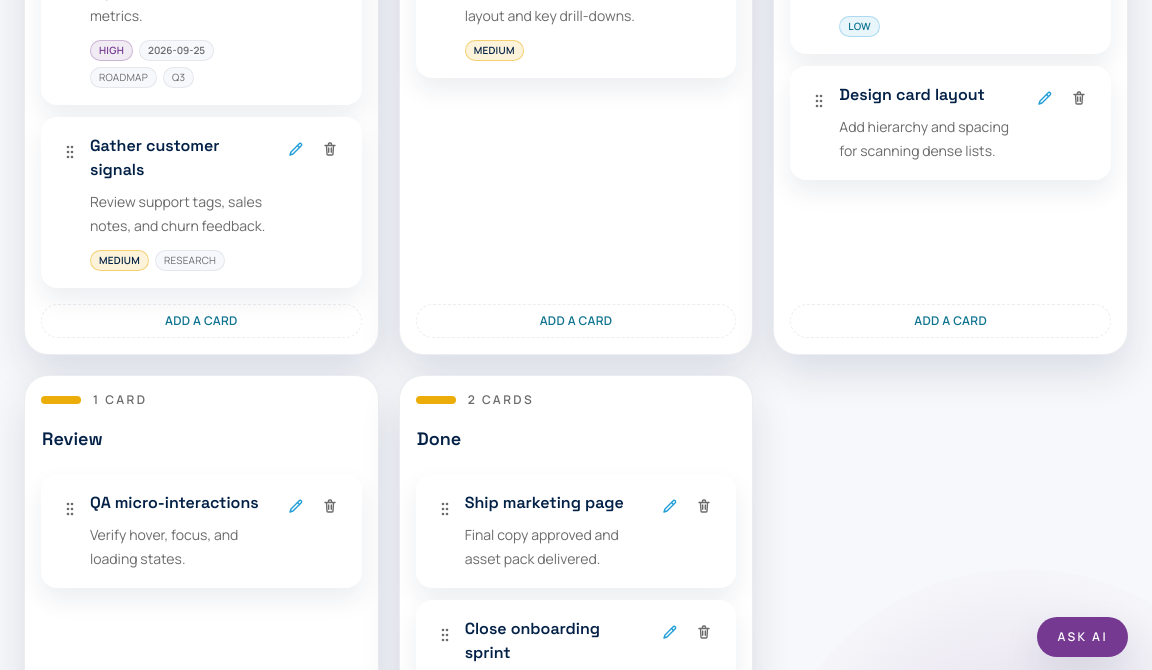
Scenario: KanbanBoard › updates the card count when a card is added
(page scrolled)
Click the button "Add a card" below "research" at [201, 321], box x1=41 y1=304 x2=362 y2=338
(page scrolled)
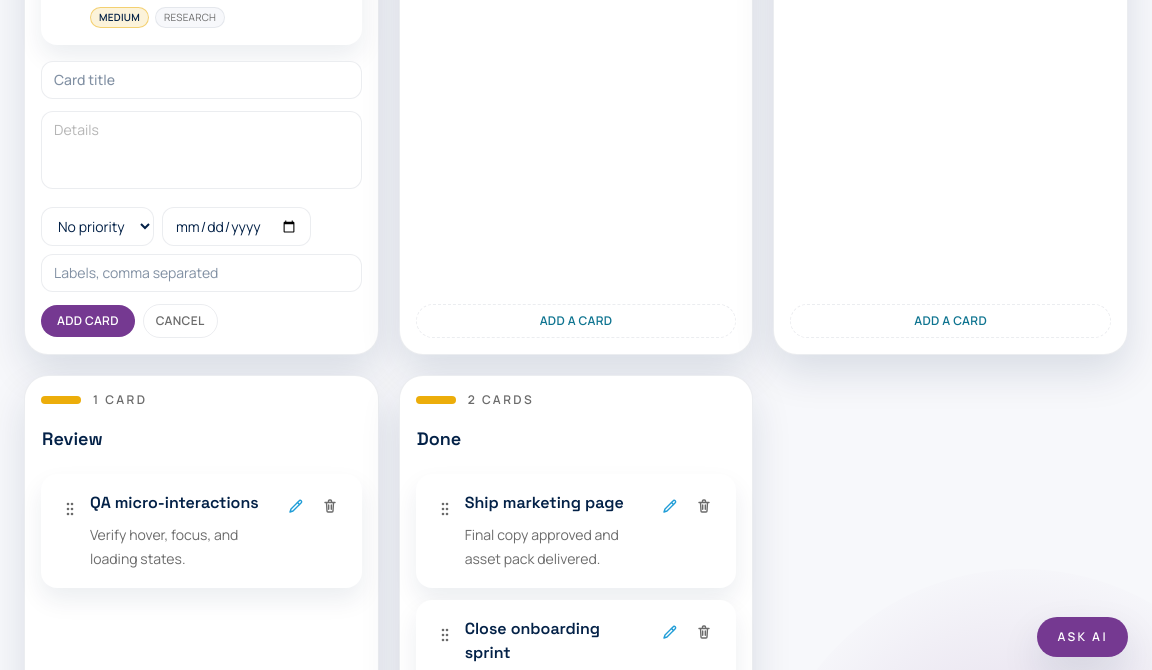
Type "Counted" into the field with placeholder "Card title" at [201, 80], box x1=41 y1=61 x2=362 y2=99
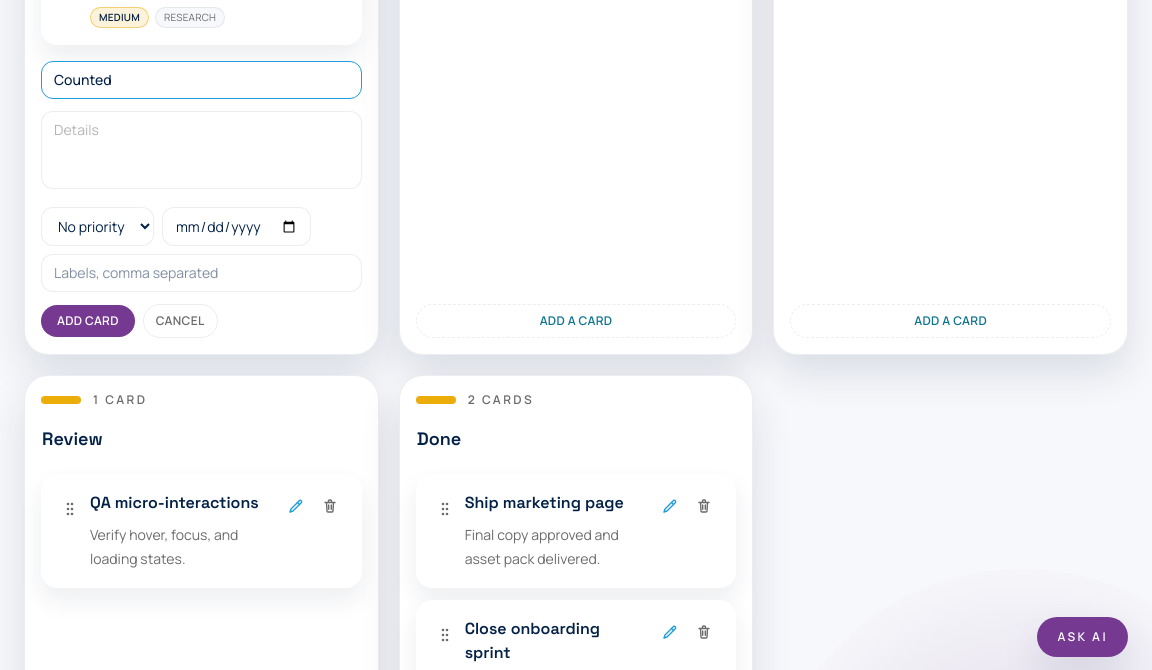
Click the button "Add card" at [88, 321], box x1=41 y1=305 x2=135 y2=337
(page scrolled)
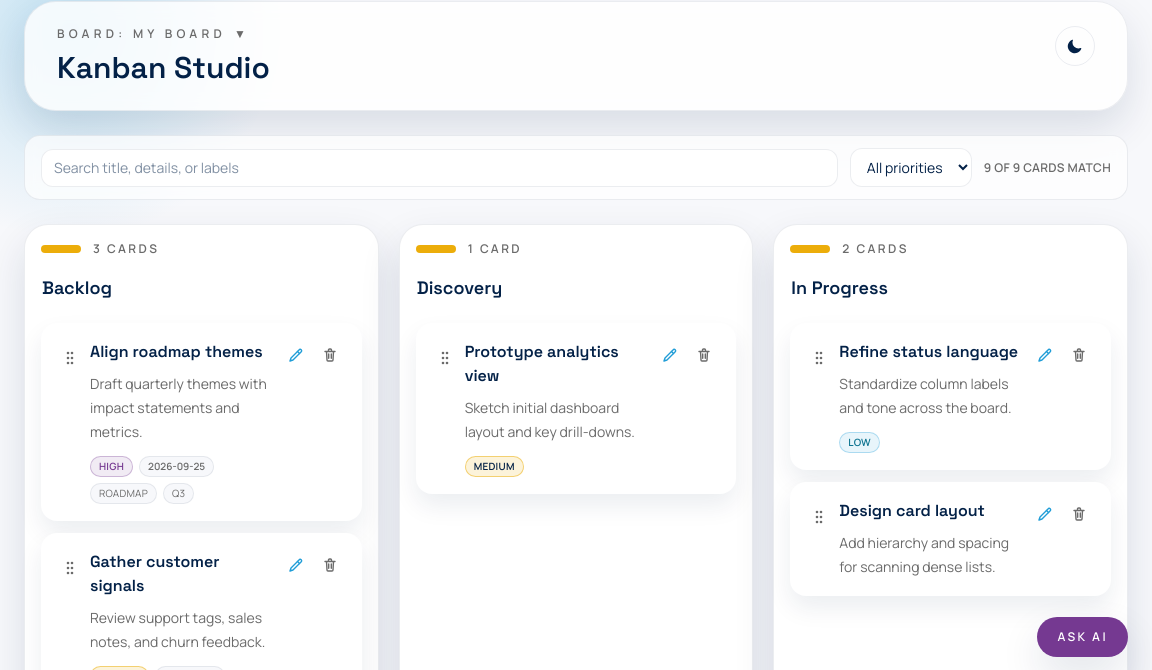
Expected: the text "3 cards" is shown, x1=93 y1=241 x2=159 y2=257
